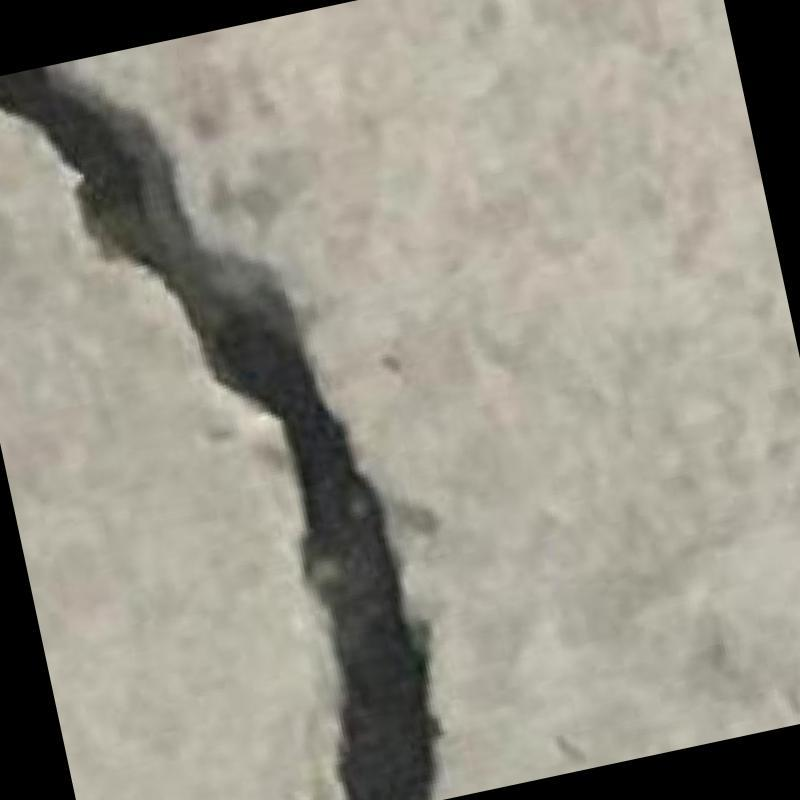pothole: (0, 66, 437, 800)
